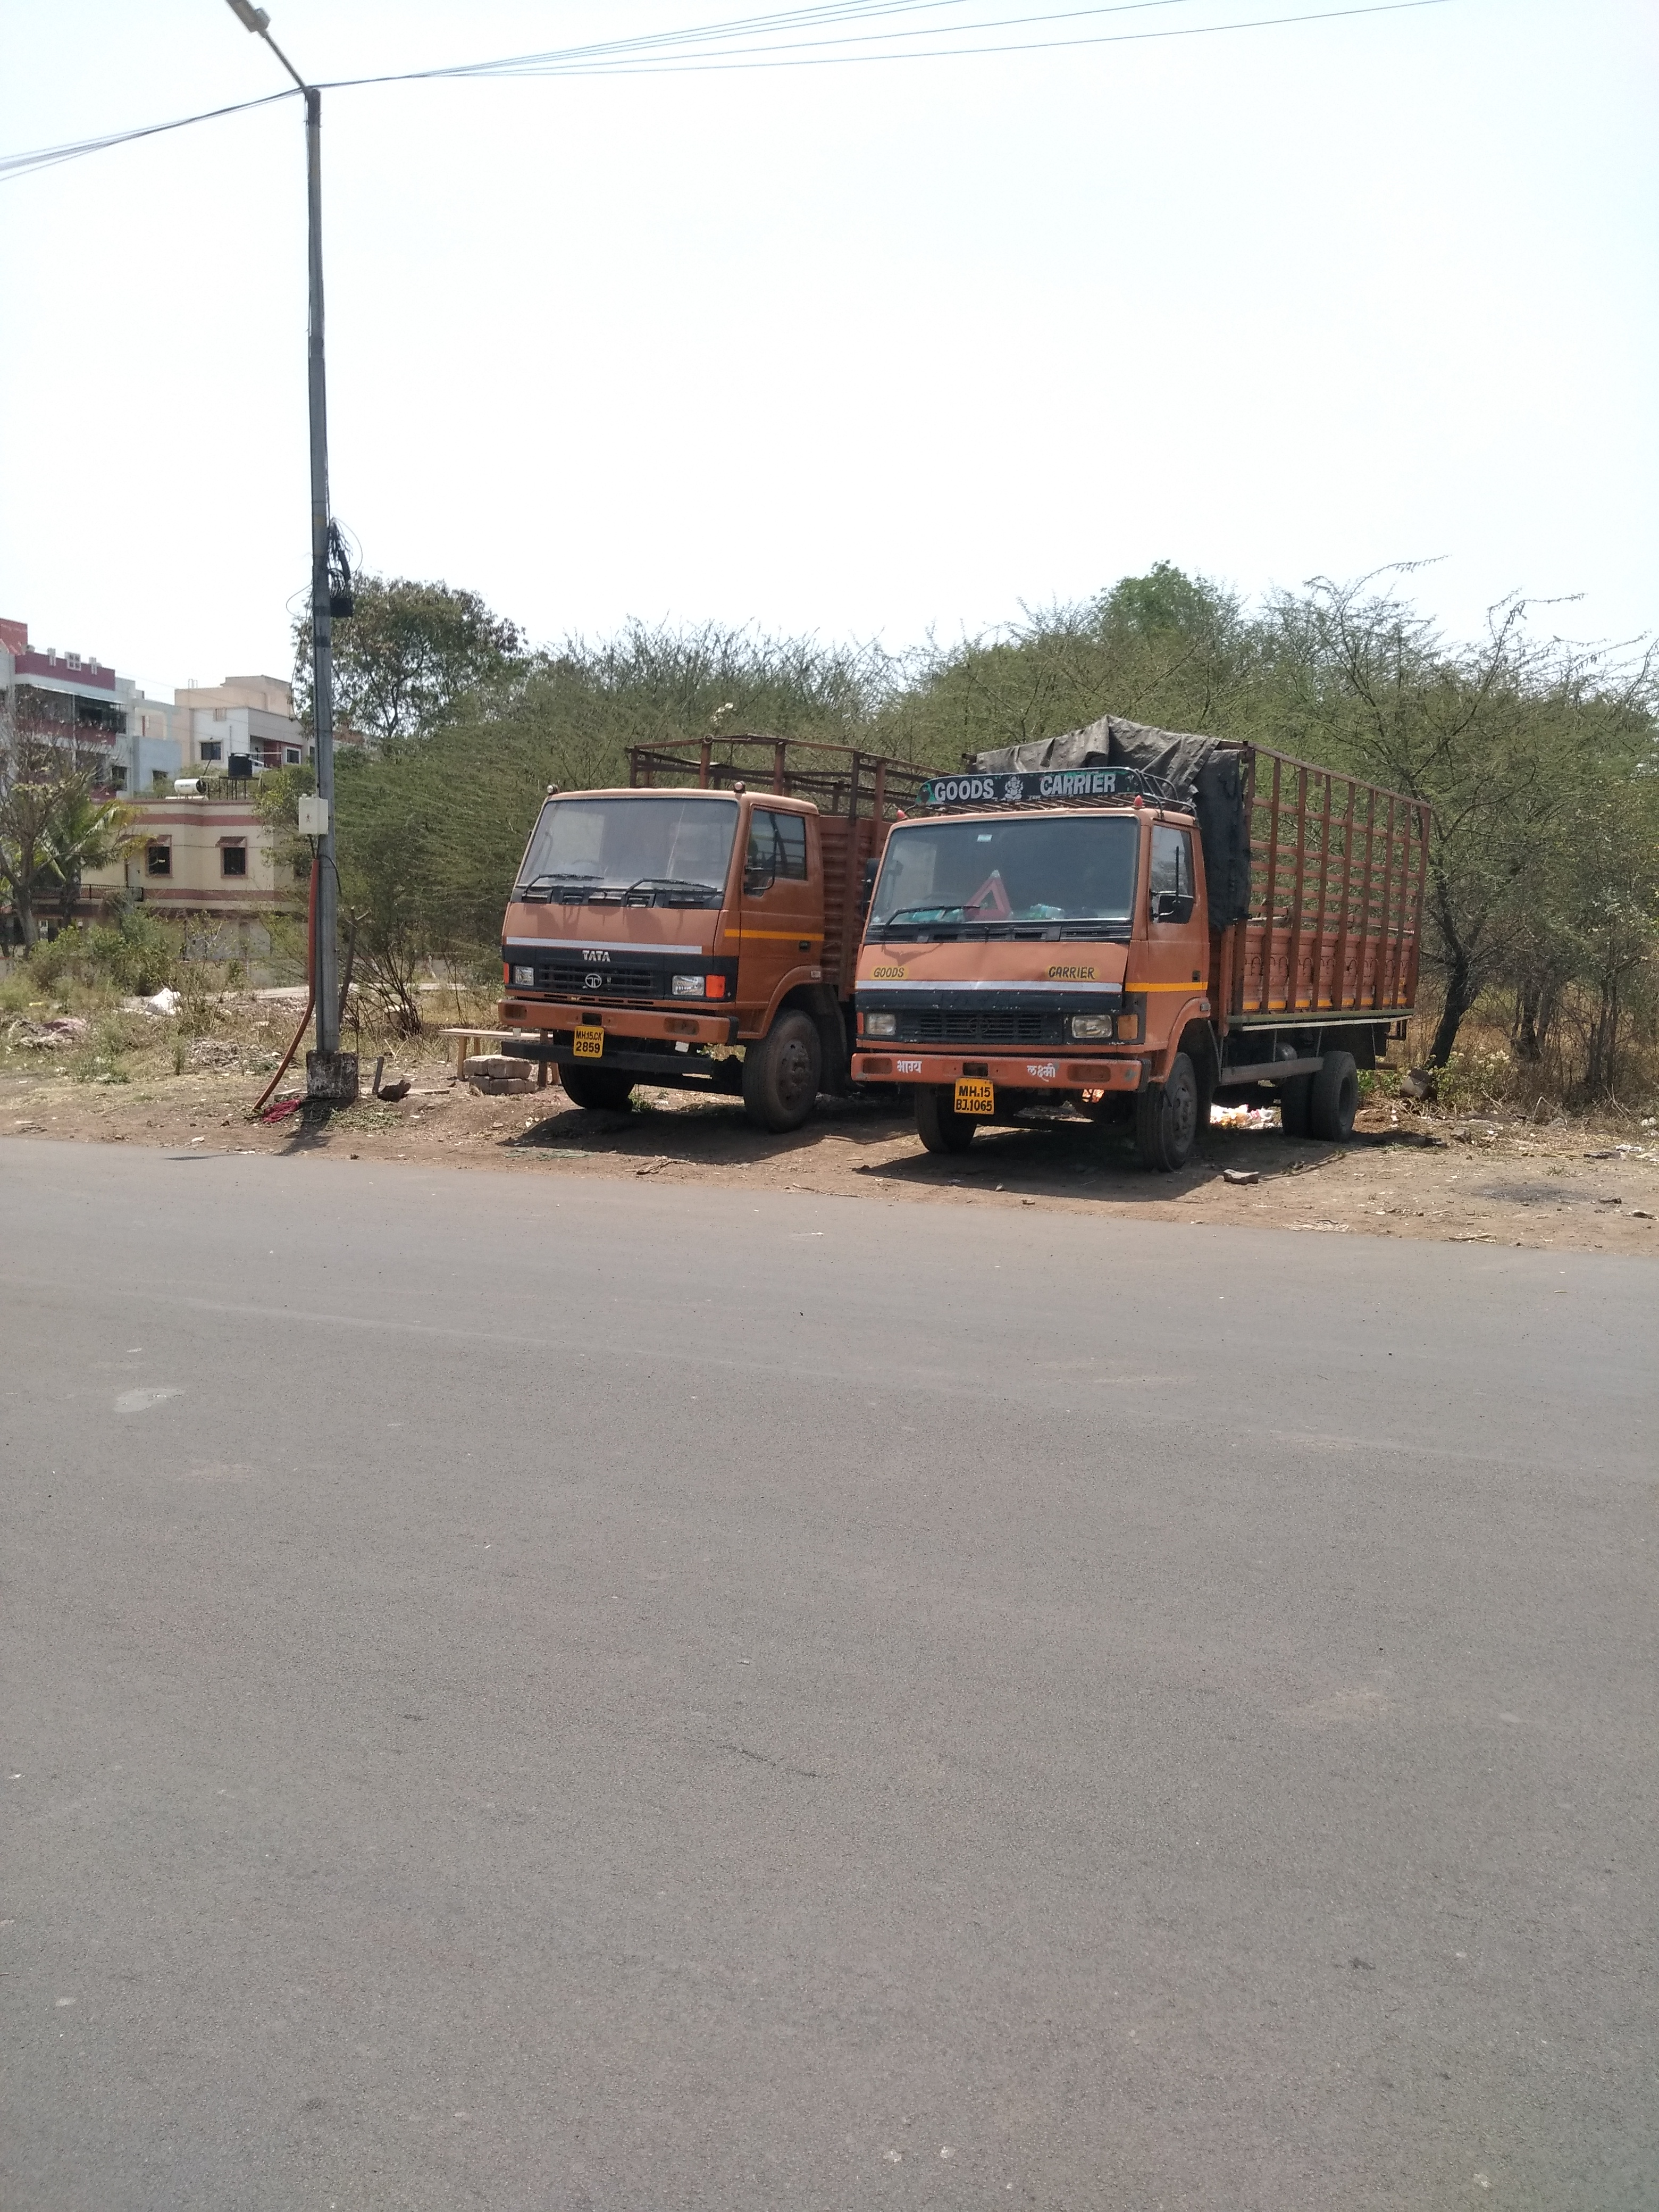truck: (847, 711, 1436, 1177), (497, 730, 1019, 1136)
